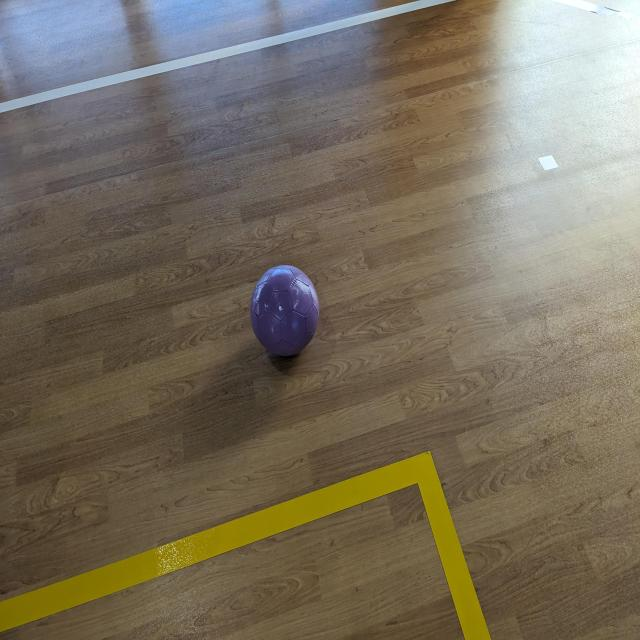purple_ball: (248, 264, 322, 362)
